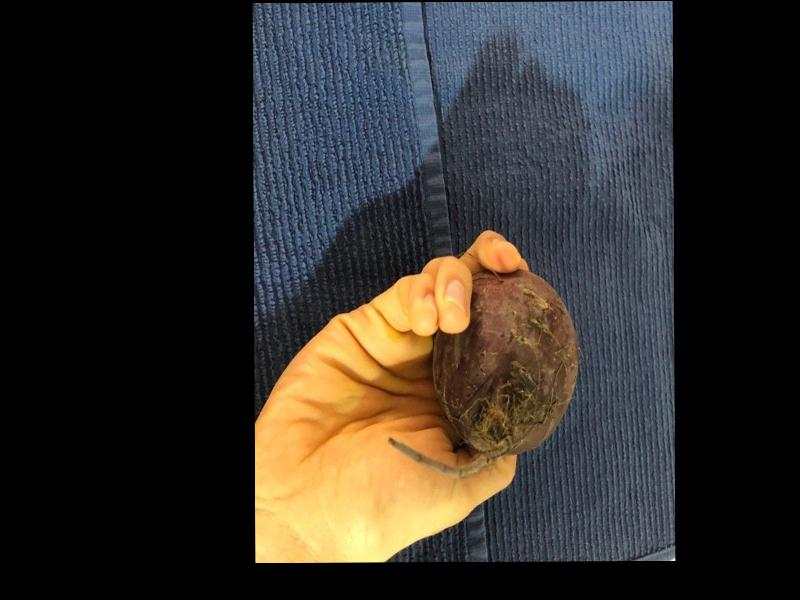Beet: (384, 269, 577, 476)
